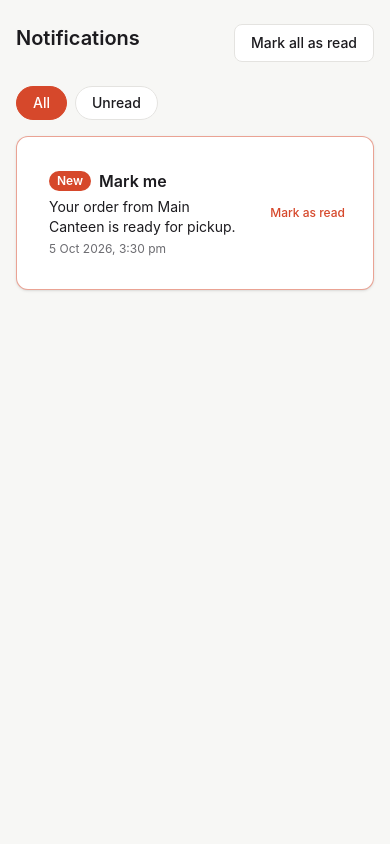
it: NotificationsView — mark one read › does NOT pretend it worked when the backend refuses: the row stays unread, with a message, and the count is not asked for again
Expected: the text "Mark me" is shown, [99,169,167,193]
Click the button named "Mark \"Mark me\" as read" at {"x": 308, "y": 213}, box [258,197,357,229]
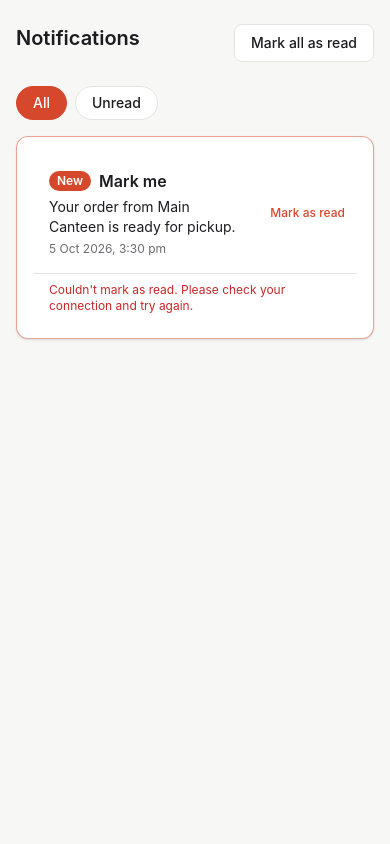
Expected: the text "New" is shown, [49,171,91,191]
Result: the message shows "Couldn't mark as read." at [49,282,285,313]
